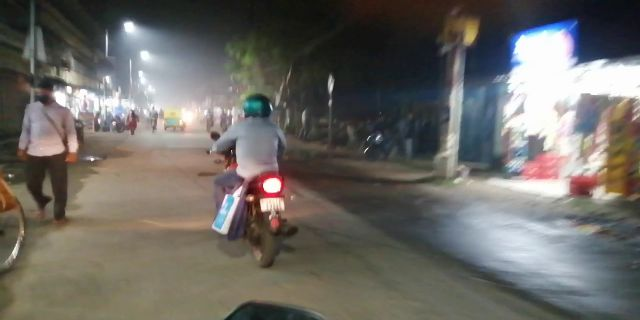Motorbike: (203, 89, 302, 271)
